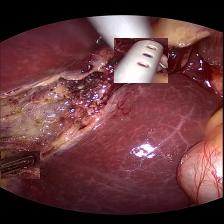Grasper: (1, 150, 40, 178)
Irrigator: (114, 37, 168, 82)
